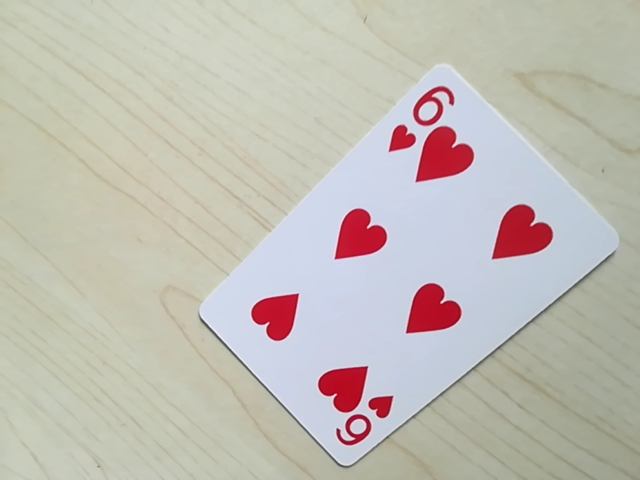hx 6: (391, 80, 465, 146), (328, 401, 396, 457)
